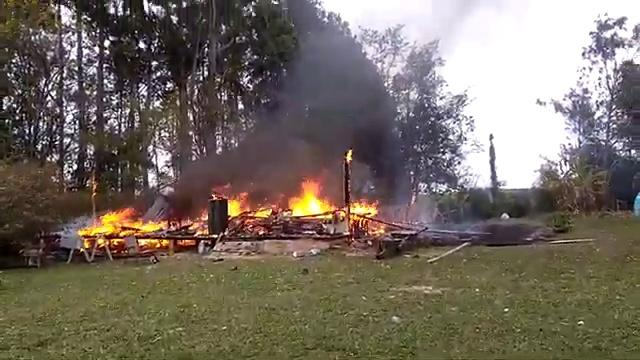fire: (78, 217, 165, 244), (293, 186, 335, 215)
smoke: (274, 58, 406, 180)
